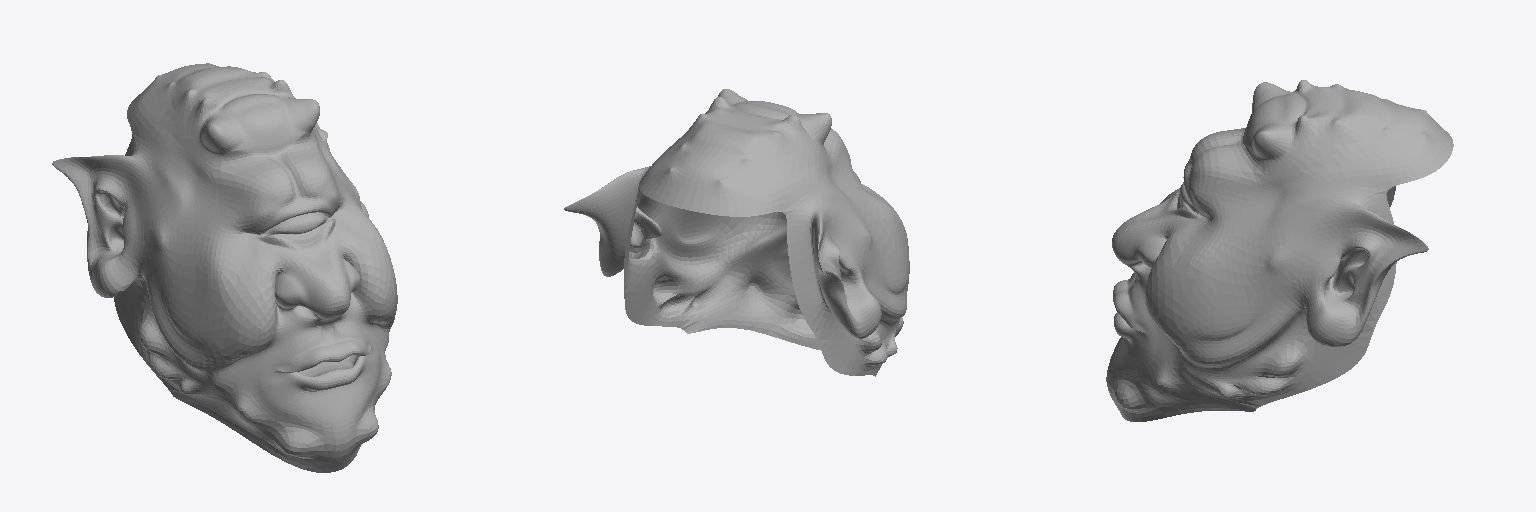
Rendered from bs_blink.obj.
The picture shows the model from 3 angles: view 1: azimuth 30°, elevation 25°; view 2: azimuth 150°, elevation 25°; view 3: azimuth 270°, elevation 25°; orthographic projection.
Bounding box in the file's own units: 1.06 × 1.19 × 1.18.